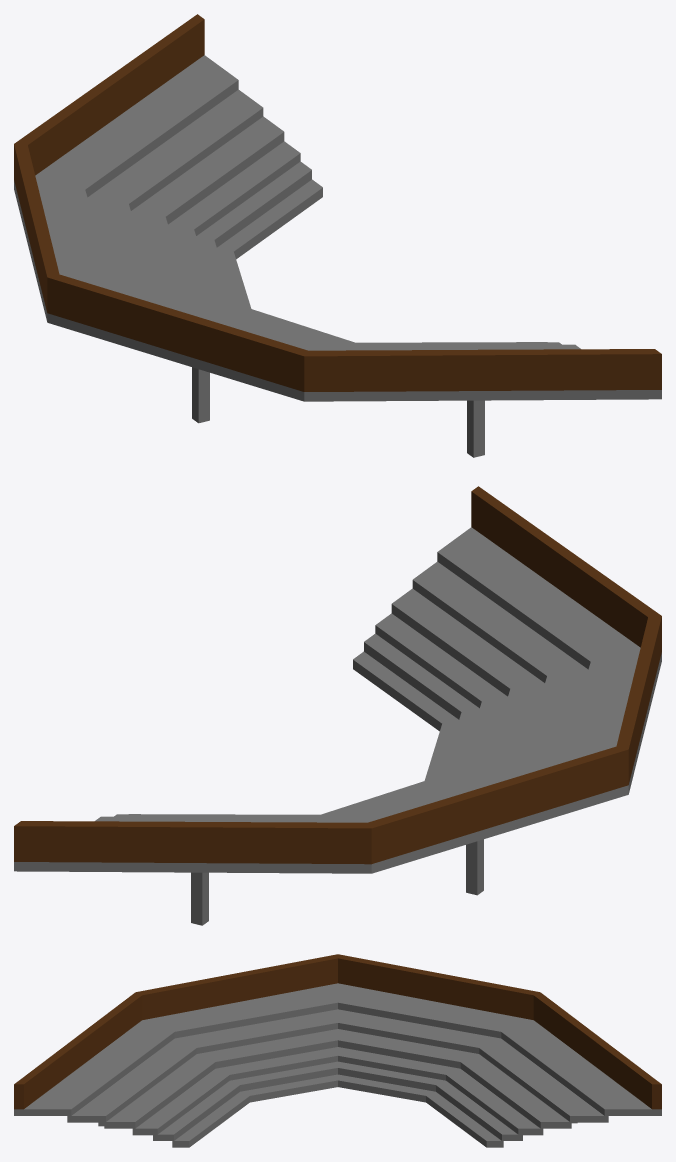
File: Tribuene_180Deg.fbx
3 renders of one model, top to bottom at view 1: azimuth 30°, elevation 25°; view 2: azimuth 150°, elevation 25°; view 3: azimuth 270°, elevation 25°, orthographic. The views are drawn at different scales.
Visible parts, largest first — view 1: Cube.001; view 2: Cube.001; view 3: Cube.001.
Part boxes in pixels (bbox=[...]): Cube.001: bbox=[14, 14, 661, 457]; Cube.001: bbox=[14, 486, 661, 925]; Cube.001: bbox=[14, 954, 661, 1147].
Size of the model in its own units: 3357 by 980 by 7061.
